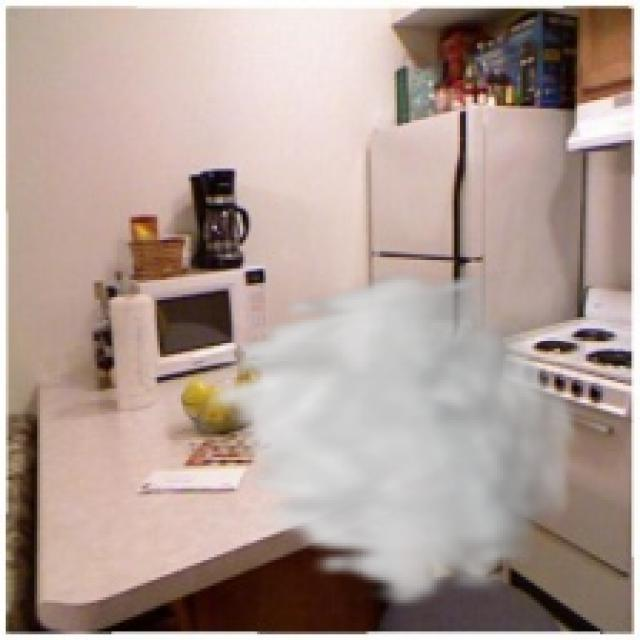Smoke: (188, 268, 586, 612)
